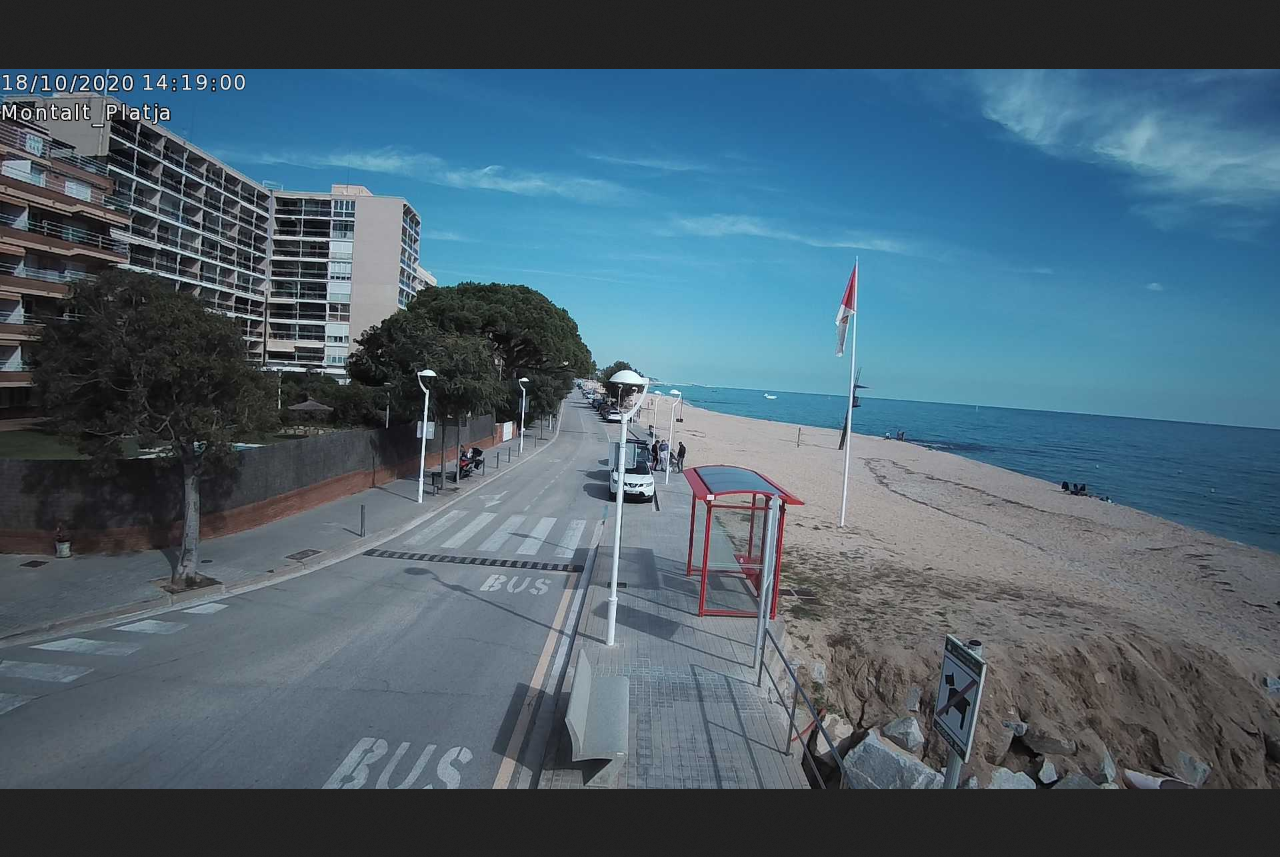no: (832, 252, 854, 362)
